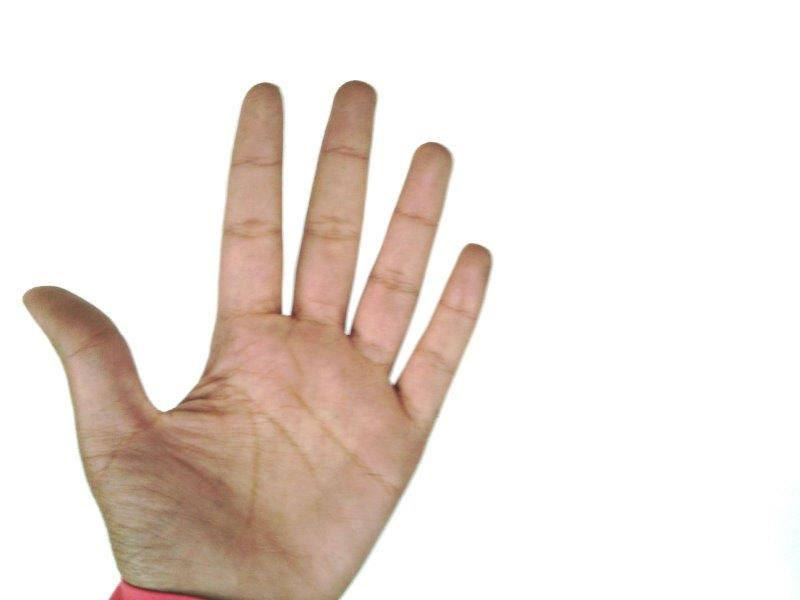hand: (26, 82, 492, 592)
